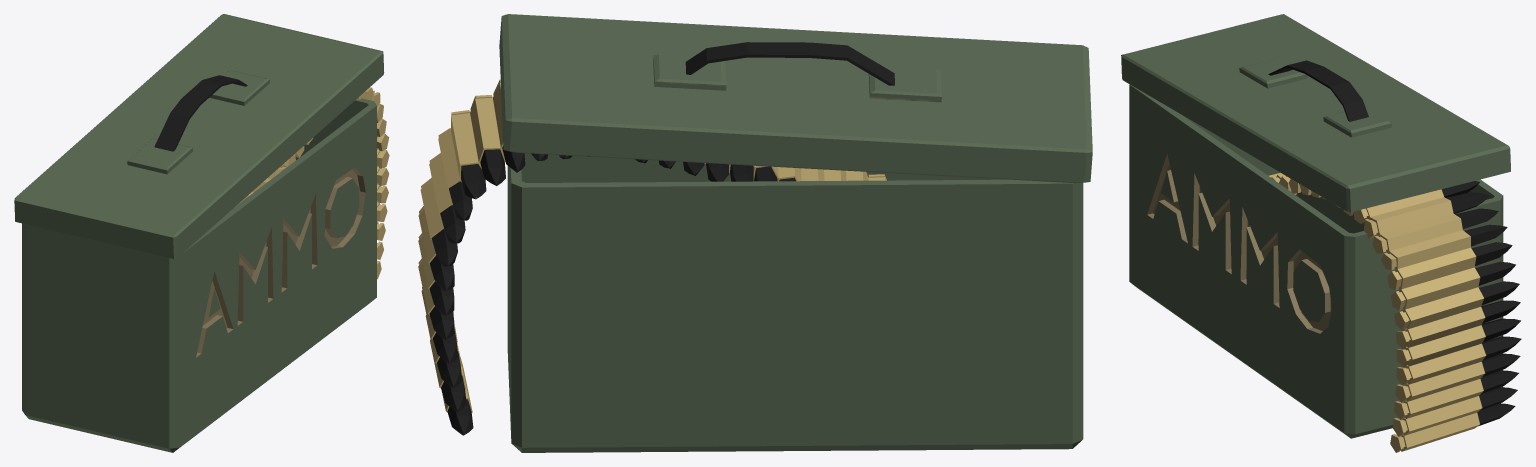
File: Ammo.fbx
The picture shows the model from 3 angles, left to right: view 1: azimuth 30°, elevation 25°; view 2: azimuth 150°, elevation 25°; view 3: azimuth 270°, elevation 25°; orthographic projection. The views are drawn at different scales.
Visible parts, largest first — view 1: Plane; view 2: Plane; view 3: Plane.
Boxes of the visible parts, x1=… form: Plane: x1=14, y1=14, x2=389, y2=452; Plane: x1=418, y1=14, x2=1092, y2=452; Plane: x1=1121, y1=14, x2=1521, y2=452.
Size of the model in its own units: 91.32 by 52.95 by 70.68.
